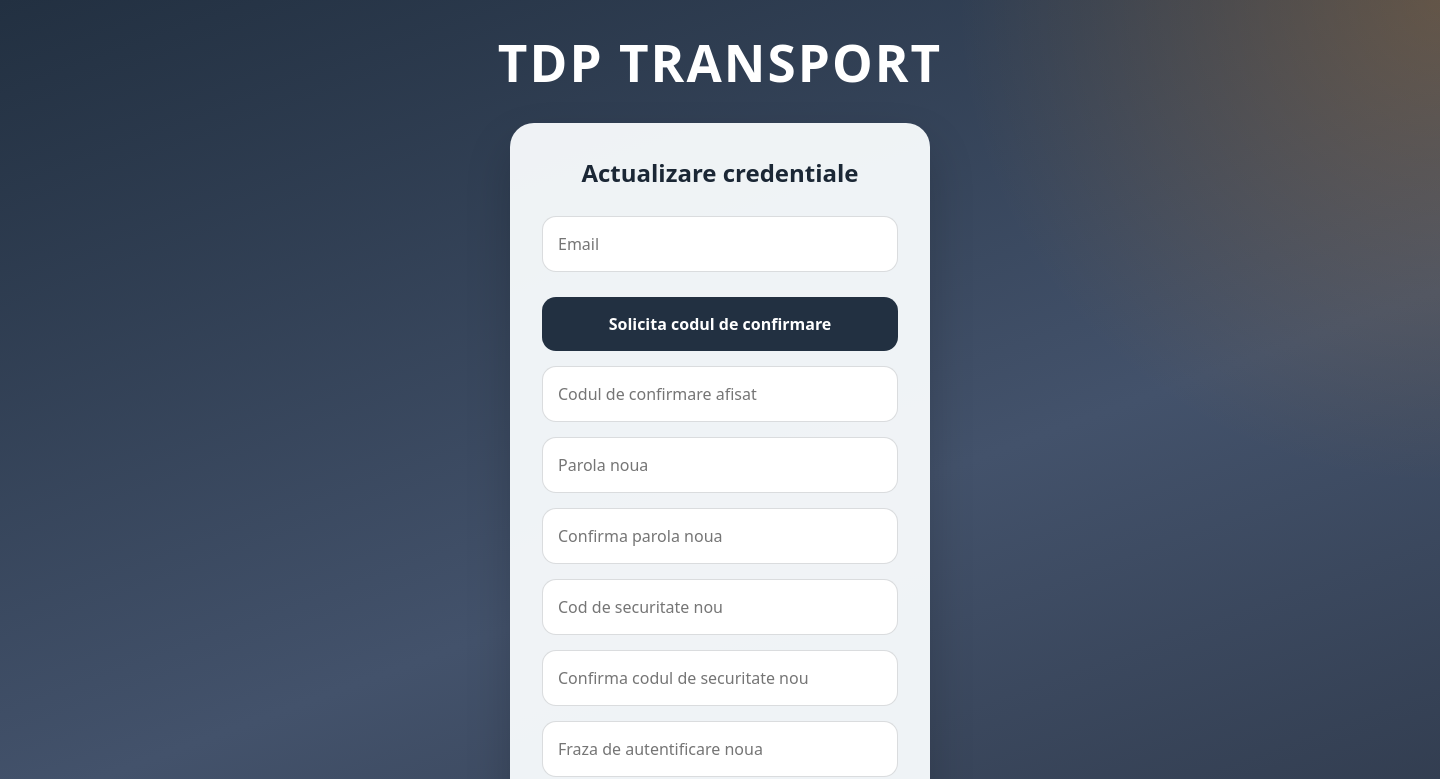
Test: RecoverPassword page › requests and displays a credential-change confirmation code
Type "  recover@tdptrans.ro  " into the field with placeholder "Email" at {"x": 720, "y": 244}, box [542,216,898,272]
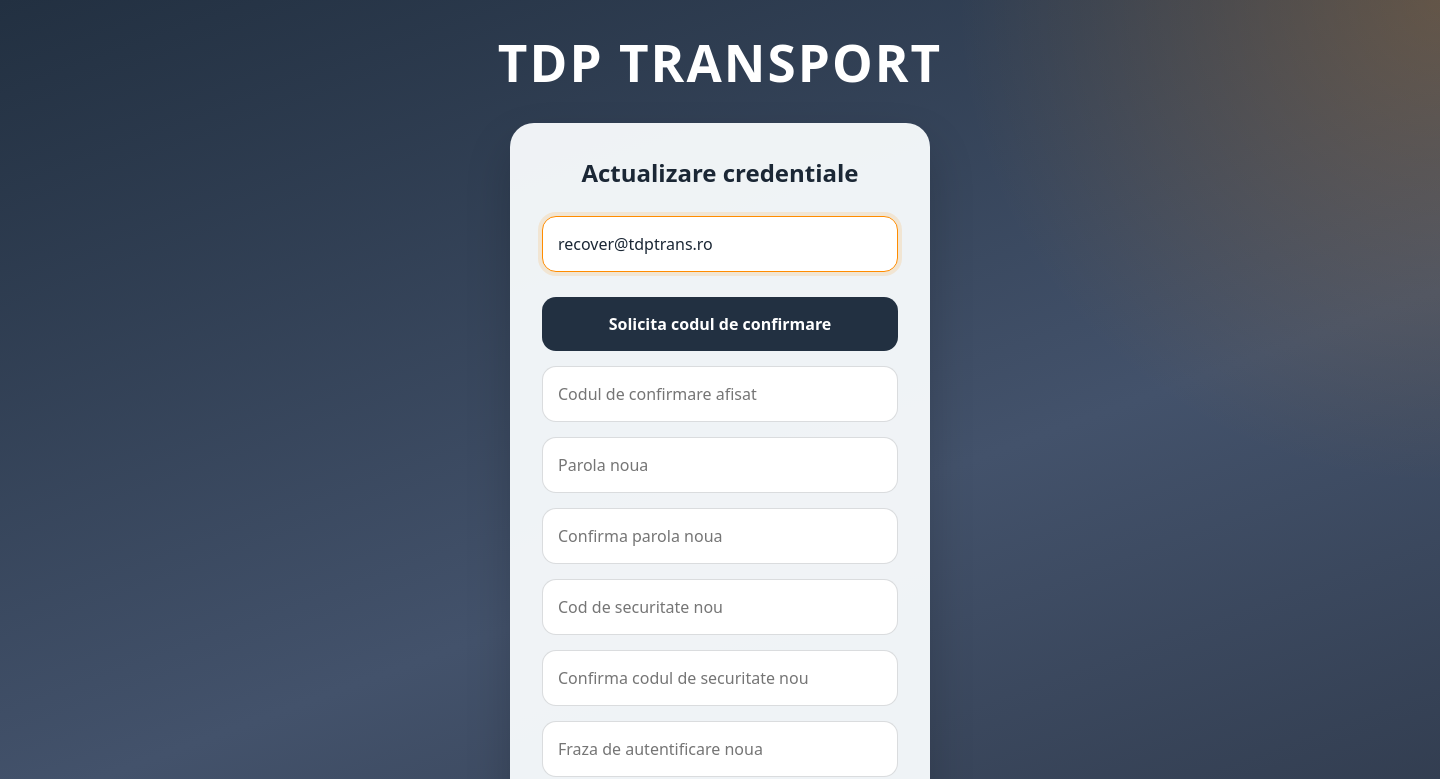
Click the button "Solicita codul de confirmare" at {"x": 720, "y": 324}, box [542,297,898,351]
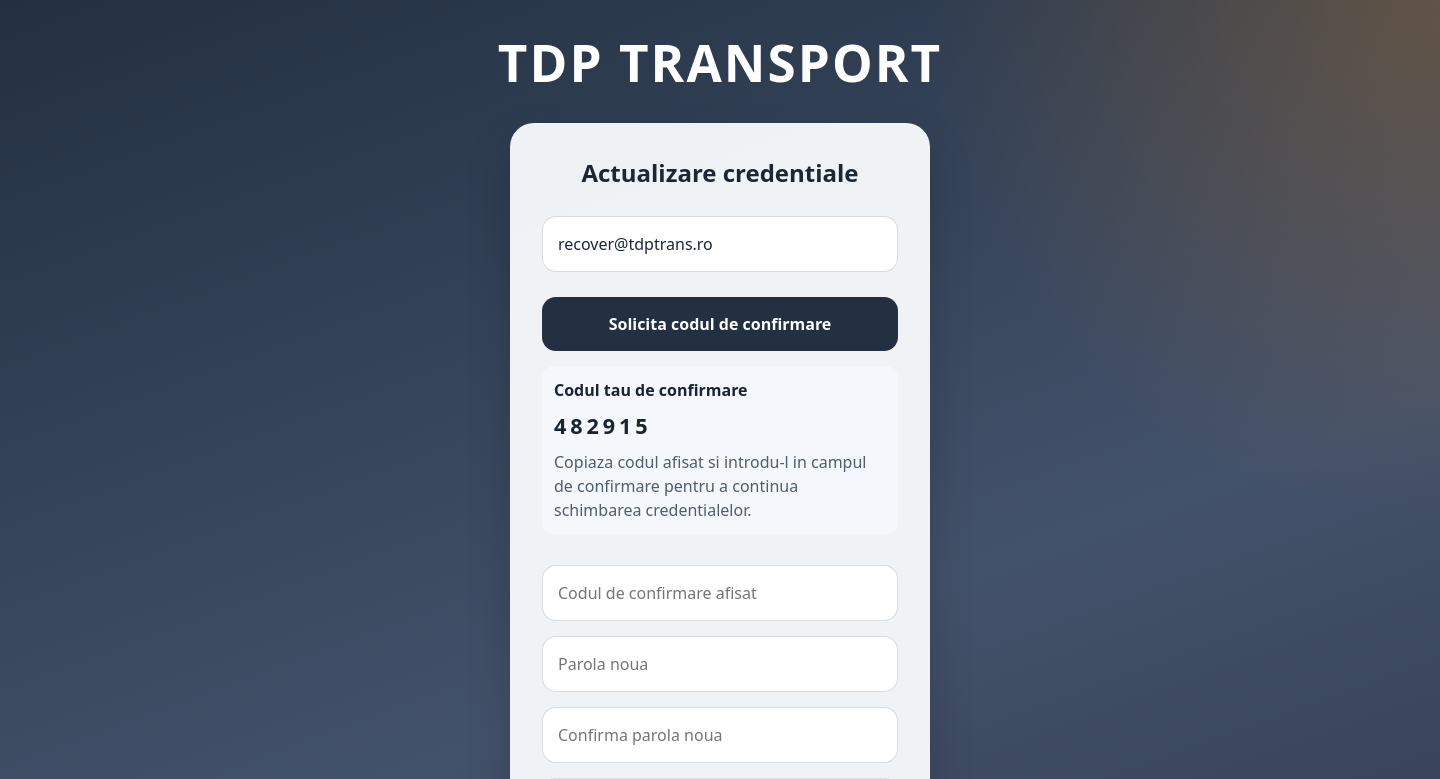
Check: the text "Codul tau de confirmare" is shown, box [554,379,748,401]
Check: the text "482915" is shown, box [554,411,652,440]
